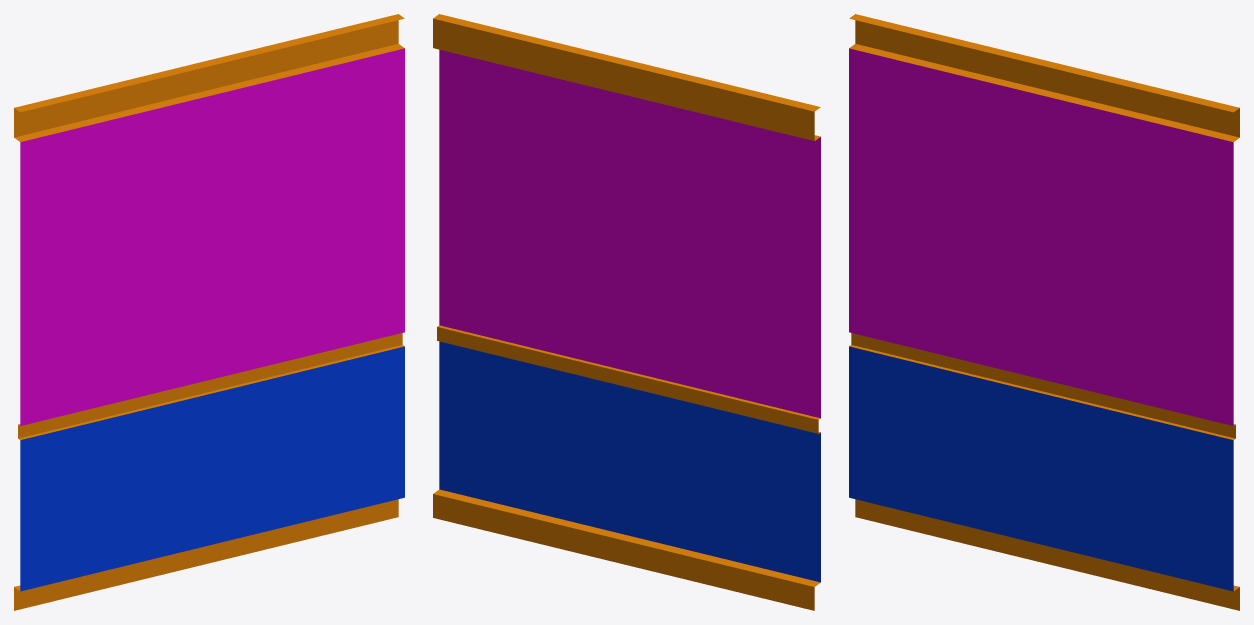
The model's file is Unit_Wall.fbx.
3 views of the same model, side by side, from view 1: azimuth 30°, elevation 25°; view 2: azimuth 150°, elevation 25°; view 3: azimuth 330°, elevation 25° (orthographic).
Parts seen in each view (by area): view 1: Unit_Wall; view 2: Unit_Wall; view 3: Unit_Wall.
Boxes of the visible parts, left/top/right/bottom form: Unit_Wall: left=14, top=14, right=404, bottom=610; Unit_Wall: left=433, top=14, right=820, bottom=610; Unit_Wall: left=849, top=14, right=1239, bottom=610.
Bounding box in the file's own units: 2 × 2.5 × 0.0569.
